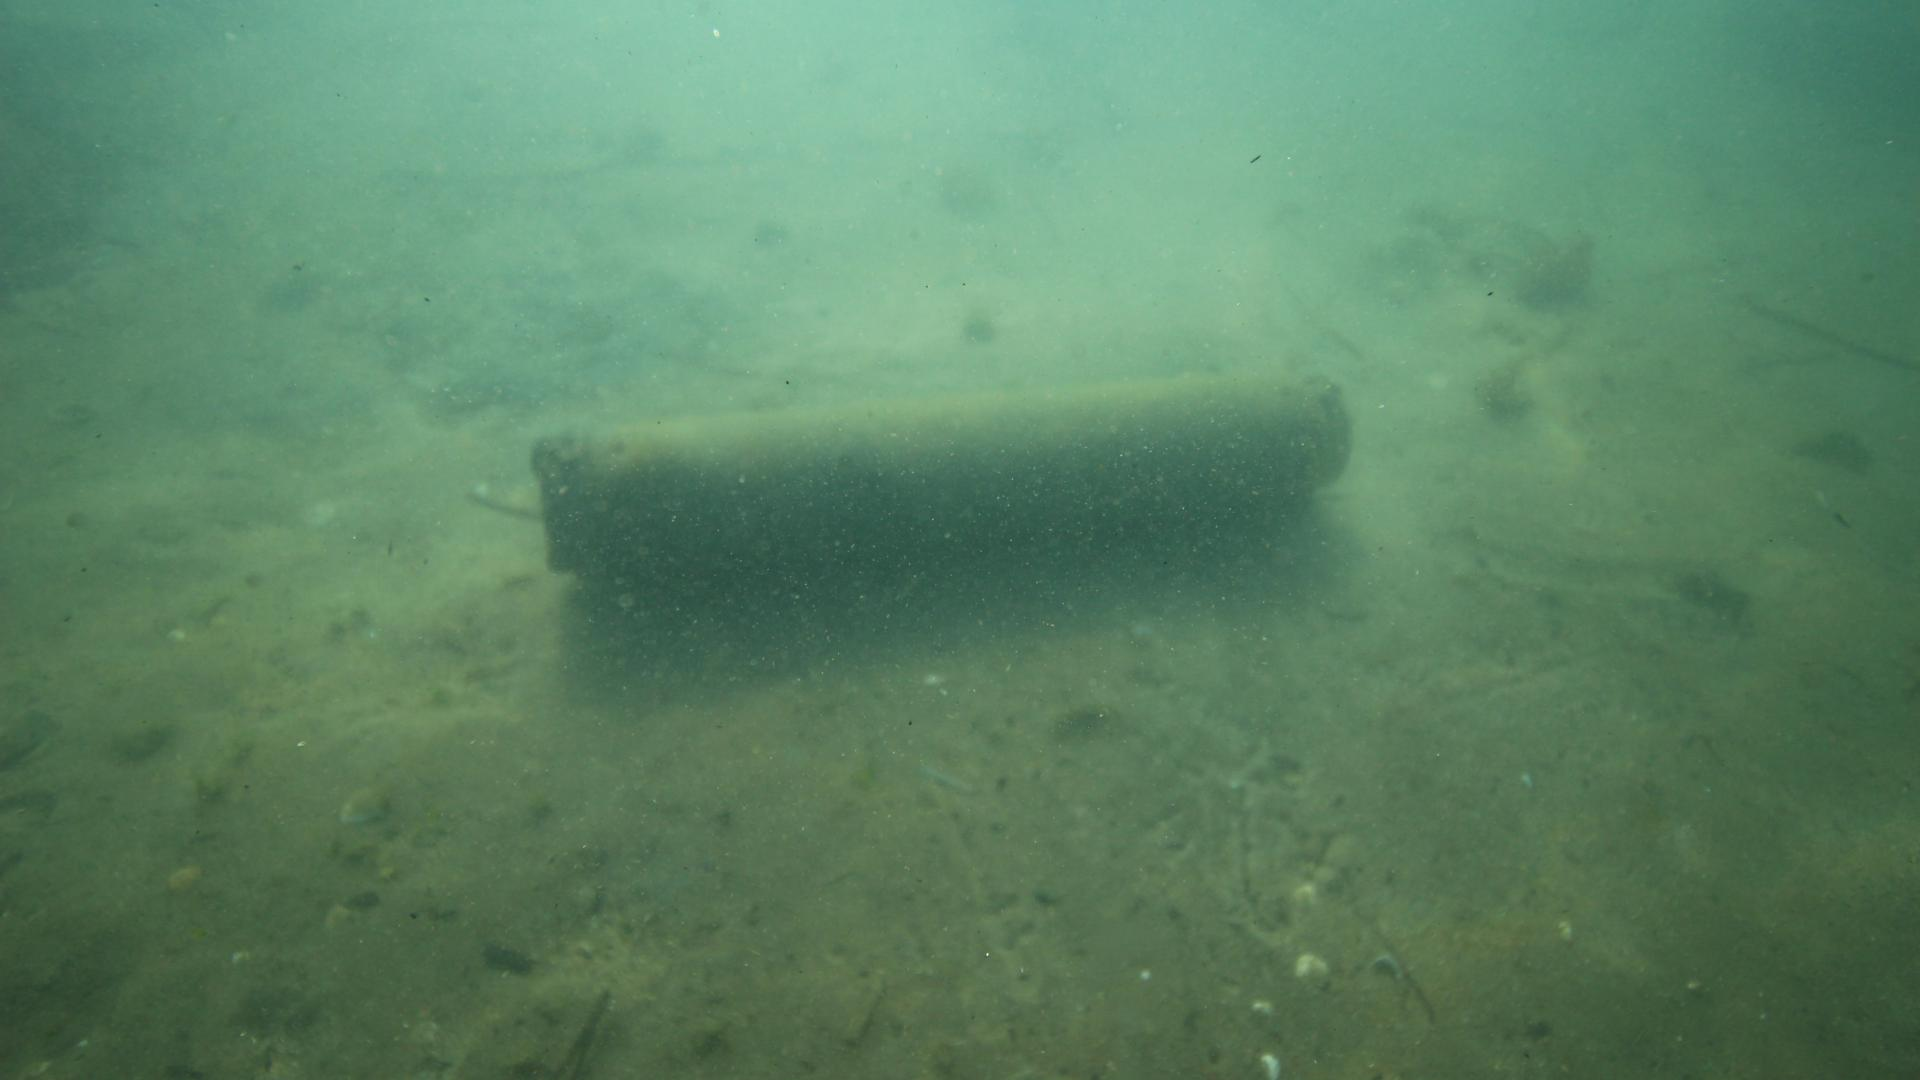eel fish trap: (529, 356, 1358, 589)
